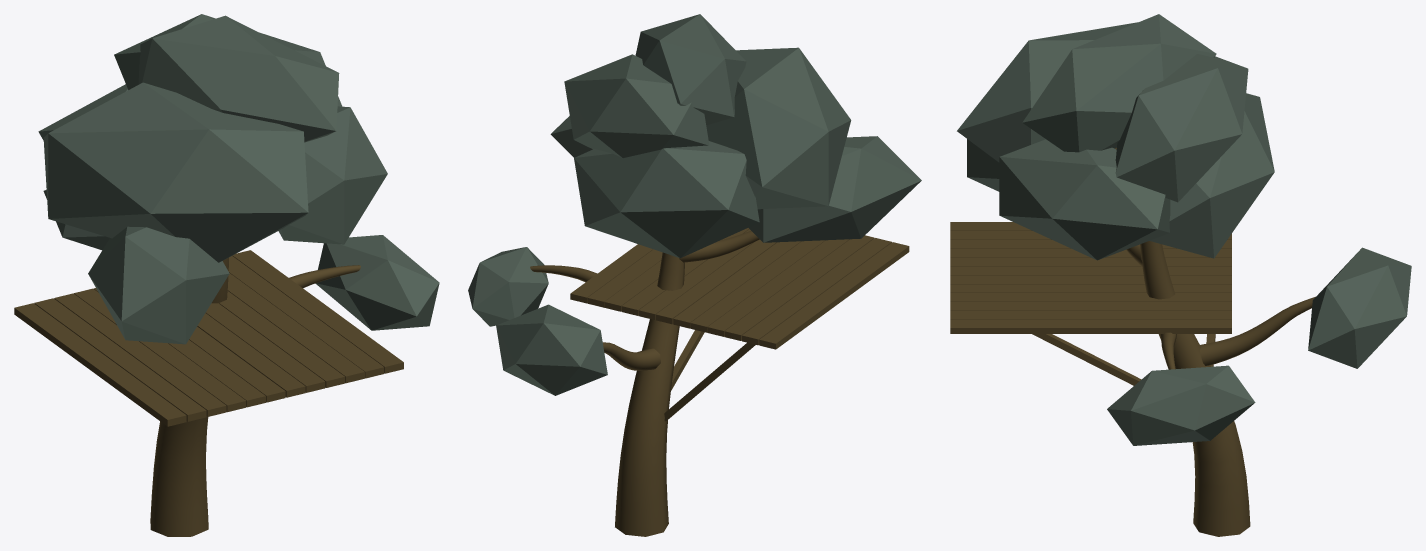
File: Platform_Tree.fbx
3 renders of one model, left to right at view 1: azimuth 30°, elevation 25°; view 2: azimuth 150°, elevation 25°; view 3: azimuth 270°, elevation 25°, orthographic. The views are drawn at different scales.
Parts seen in each view (by area): view 1: polySurface85, polySurface86, polySurface84, polySurface90, polySurface80, sweep1, pCube105, pCube104, pCube95, pCube103, pCube94, pCube96 (+10 smaller); view 2: polySurface88, polySurface85, polySurface87, sweep1, polySurface84, polySurface86, polySurface89, polySurface90, pCube105, pCube104, pCube103, pCube102 (+14 smaller); view 3: polySurface80, polySurface87, polySurface86, polySurface90, polySurface89, polySurface88, sweep1, polySurface85, pCube95, pCube94, pCube100, pCube99 (+11 smaller).
Part boxes in pixels (x1,y1,x2,y2): polySurface85: (43, 82, 308, 262); polySurface86: (138, 15, 339, 142); polySurface84: (88, 226, 229, 344); polySurface90: (315, 235, 439, 330); polySurface80: (278, 106, 387, 244); sweep1: (150, 257, 228, 536); pCube105: (14, 303, 186, 426); pCube104: (34, 298, 206, 421); pCube95: (232, 250, 403, 373); pCube103: (54, 293, 226, 416); pCube94: (228, 256, 384, 378); pCube96: (227, 273, 364, 383); polySurface88: (574, 141, 759, 258); polySurface85: (706, 47, 851, 209); polySurface87: (564, 54, 709, 157); sweep1: (615, 252, 684, 536); polySurface84: (748, 136, 921, 242); polySurface86: (635, 14, 746, 125); polySurface89: (496, 304, 607, 395); polySurface90: (468, 247, 548, 326); pCube105: (759, 242, 909, 349); pCube104: (742, 238, 891, 345); pCube103: (724, 235, 874, 340); pCube102: (707, 239, 849, 336); polySurface80: (999, 139, 1170, 260); polySurface87: (1115, 54, 1248, 202); polySurface86: (1022, 14, 1216, 152); polySurface90: (1107, 365, 1255, 445); polySurface89: (1308, 247, 1411, 368); polySurface88: (1149, 93, 1274, 258); sweep1: (1140, 241, 1250, 536); polySurface85: (957, 22, 1137, 162); pCube95: (950, 319, 1231, 333); pCube94: (950, 310, 1231, 319); pCube100: (950, 266, 1231, 275); pCube99: (950, 275, 1231, 284).
Size of the model in its own units: 29.74 by 37.27 by 32.
